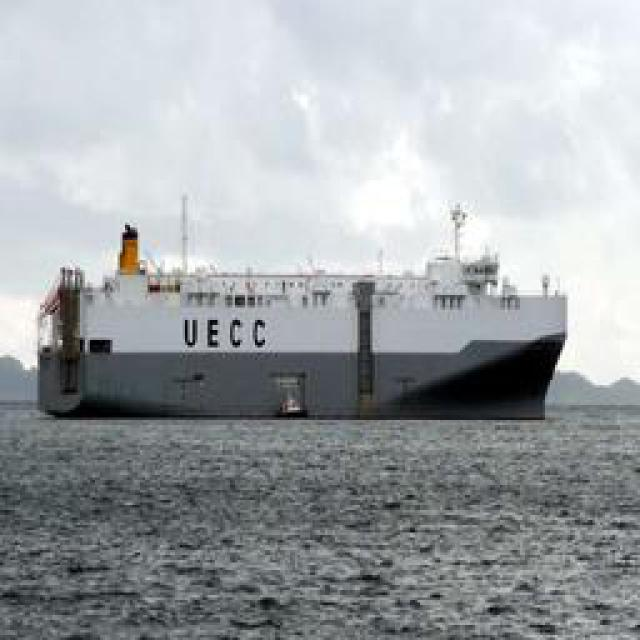Ship: (36, 228, 574, 423)
